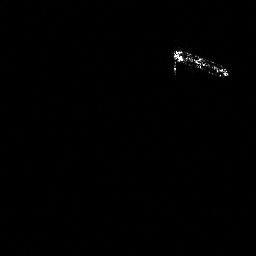ship: (169, 45, 231, 83)
